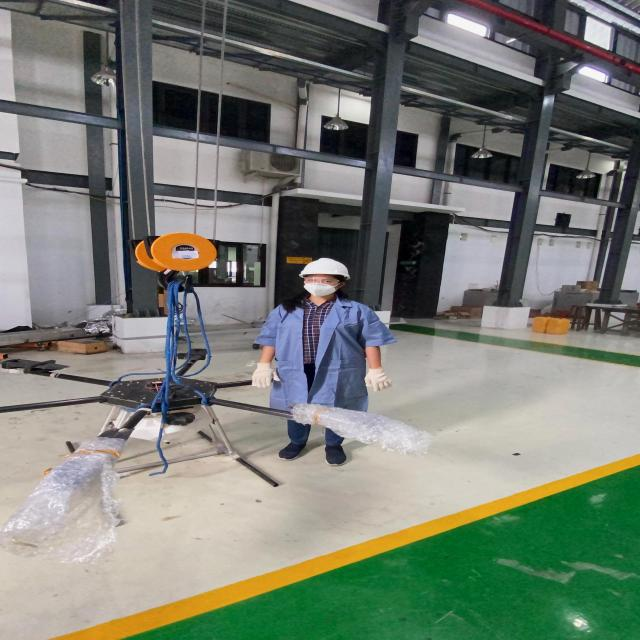face_mask: (302, 276, 340, 298)
glasses: (299, 276, 345, 287)
hand_glove: (246, 363, 286, 389), (361, 368, 397, 392)
head_helmet: (296, 256, 356, 278)
person: (245, 253, 398, 468)
shoes: (319, 440, 354, 469), (274, 439, 314, 462)
